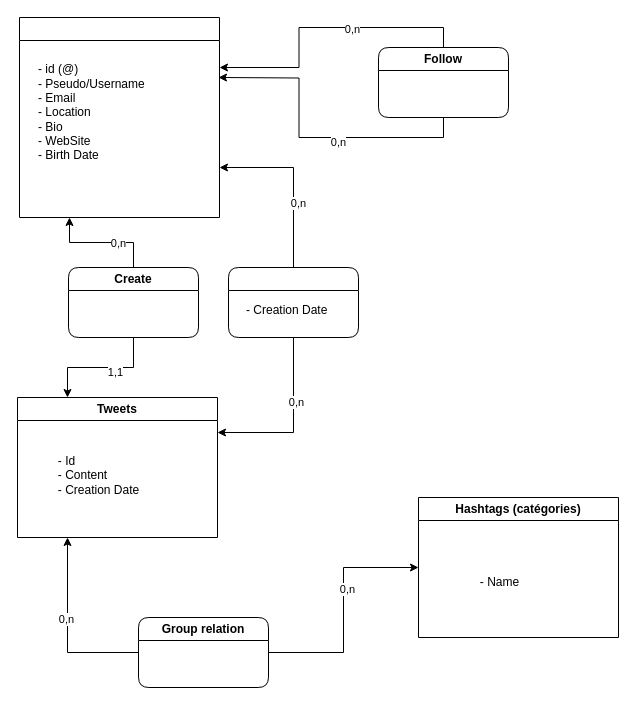
The diagram is 636 pixels wide and 705 high, and some of its shapes have lost their labels. The shapes that lost their labels are listed below. From the top down, each one's box as (x1, y1, x2, y2) in pixels, then its label:
(18, 16, 220, 218): Users
(228, 266, 358, 338): React
